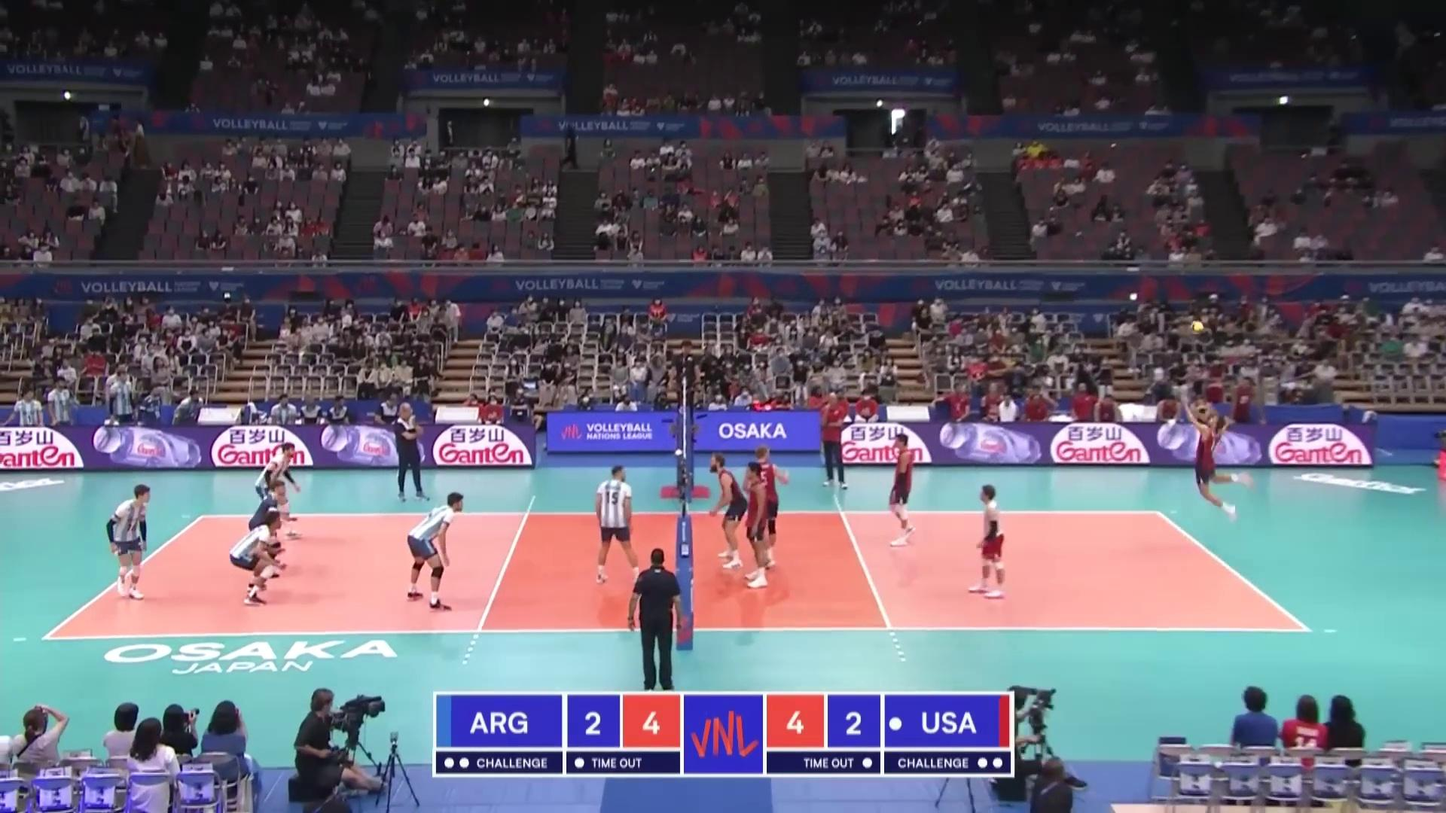player: (1185, 400, 1255, 525), (405, 492, 464, 611), (594, 465, 641, 586), (743, 446, 788, 569), (106, 484, 153, 601), (229, 513, 282, 605), (708, 453, 748, 570), (254, 443, 300, 542), (740, 461, 773, 590), (973, 485, 1010, 600), (885, 433, 919, 549), (249, 482, 289, 580)
refree: (627, 550, 683, 690), (670, 340, 700, 423)
